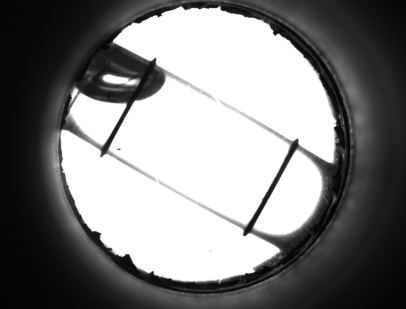line: (246, 158, 294, 218), (104, 110, 132, 138)
